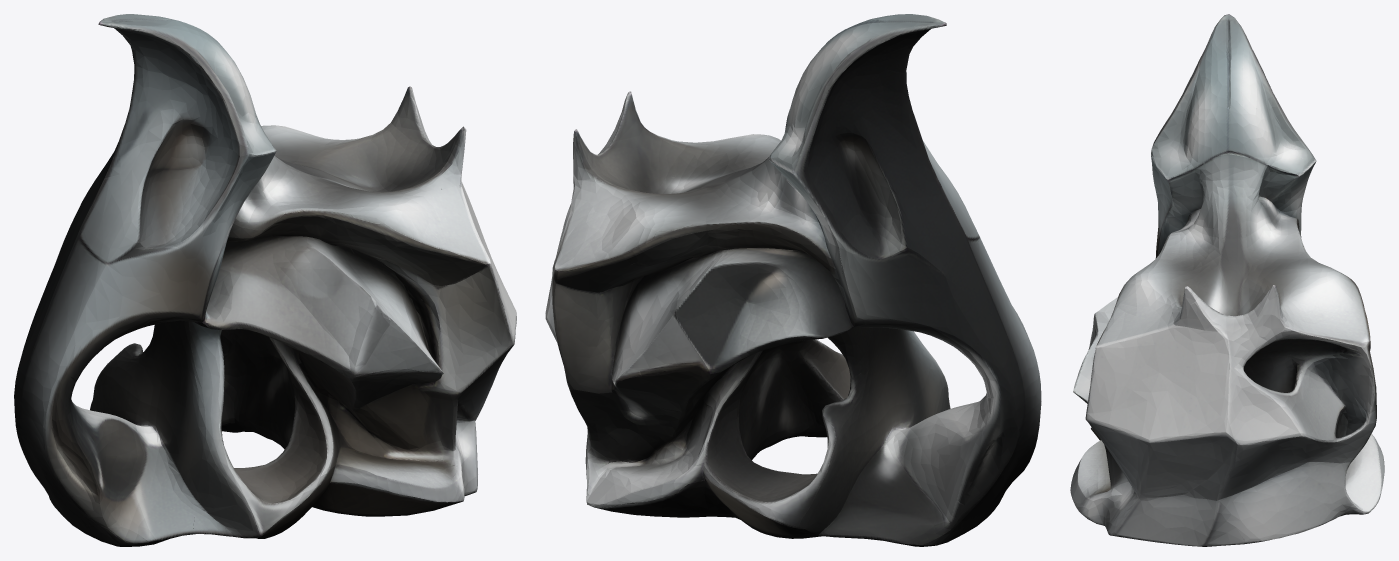
File: ceramic-statue-futuristic.jpeg.glb
3 views of the same model, side by side, from view 1: azimuth 30°, elevation 25°; view 2: azimuth 150°, elevation 25°; view 3: azimuth 270°, elevation 25° (orthographic). The views are drawn at different scales.
Visible parts, largest first — view 1: world; view 2: world; view 3: world.
Part boxes in pixels (left/top/right/bottom): world: left=14, top=14, right=516, bottom=546; world: left=545, top=14, right=1041, bottom=546; world: left=1070, top=14, right=1384, bottom=546.
Bounding box in the file's own units: 0.9845 × 1 × 0.7055.
Materials: 1 (1 with a texture image).
